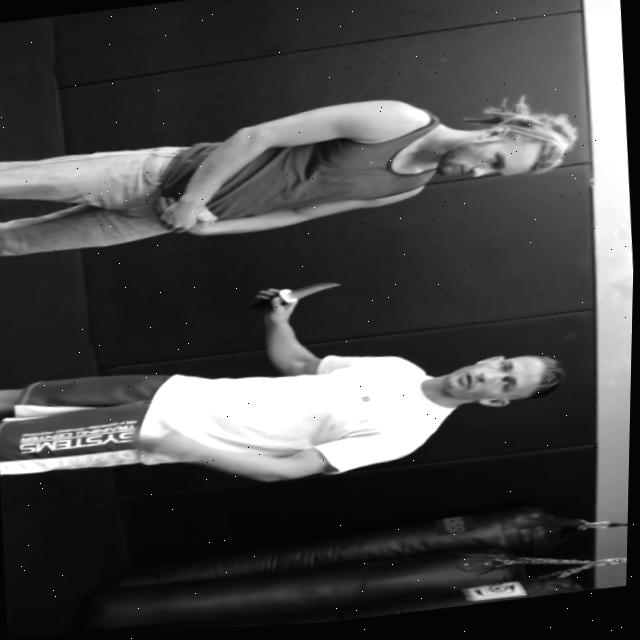knife: (279, 281, 340, 305)
